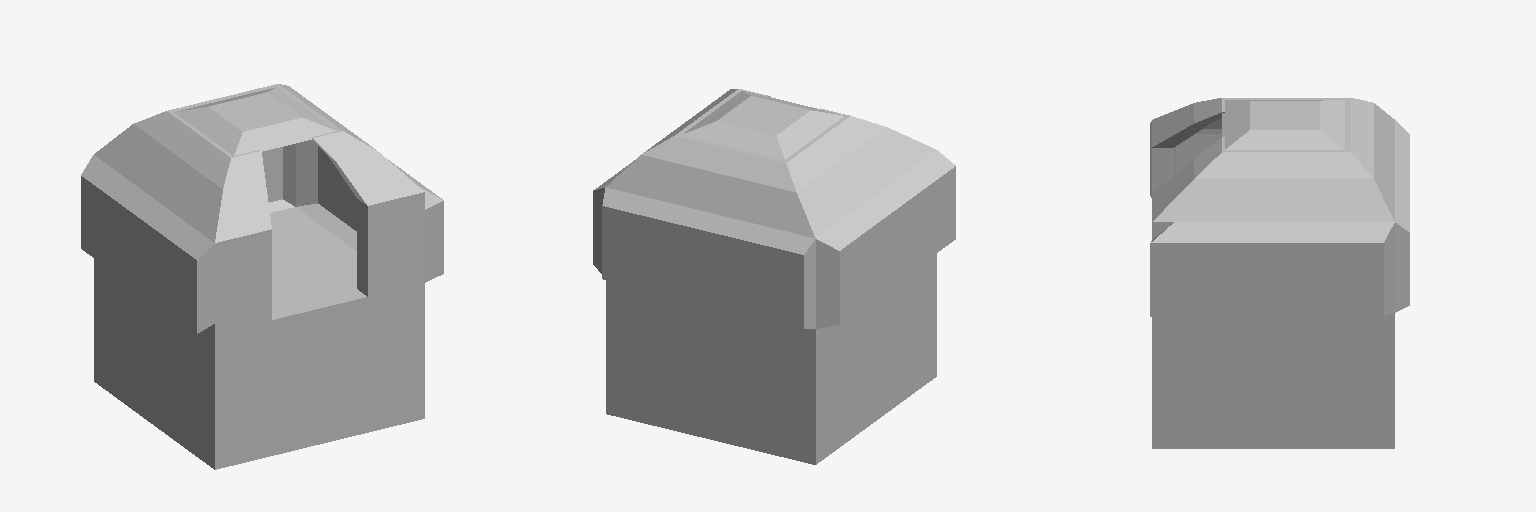
The model's file is world_2_2.obj.
3 views of the same model, side by side, from view 1: azimuth 30°, elevation 25°; view 2: azimuth 150°, elevation 25°; view 3: azimuth 270°, elevation 25° (orthographic).
Parts seen in each view (by area): view 1: Plane.001; view 2: Plane.001; view 3: Plane.001.
Part boxes in pixels (x1,y1,x2,y2): Plane.001: (81,84,443,469); Plane.001: (593,89,955,464); Plane.001: (1150,98,1409,448).
Bounding box in the file's own units: 23.49 × 25.77 × 21.36.